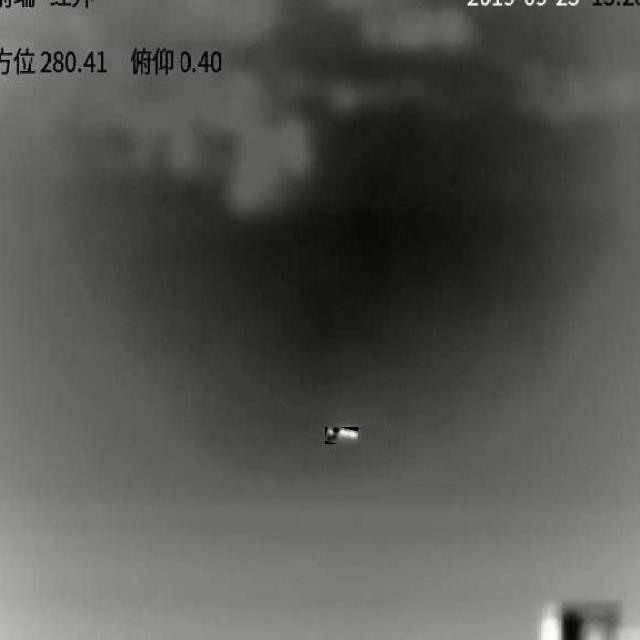drone: (325, 427, 358, 441)
